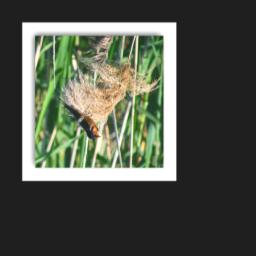Swallow: (59, 100, 103, 141)
